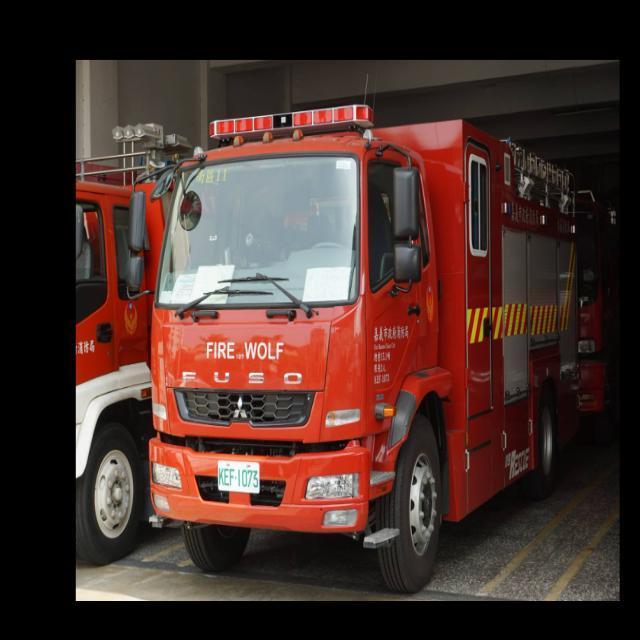ambulance: (148, 108, 606, 608)
